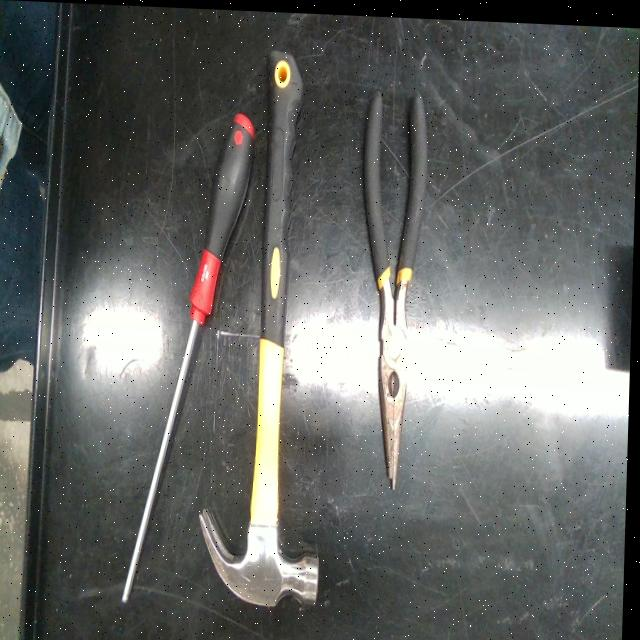Screwdriver: (126, 111, 255, 600)
